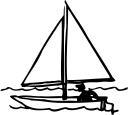boat: (6, 2, 115, 111)
